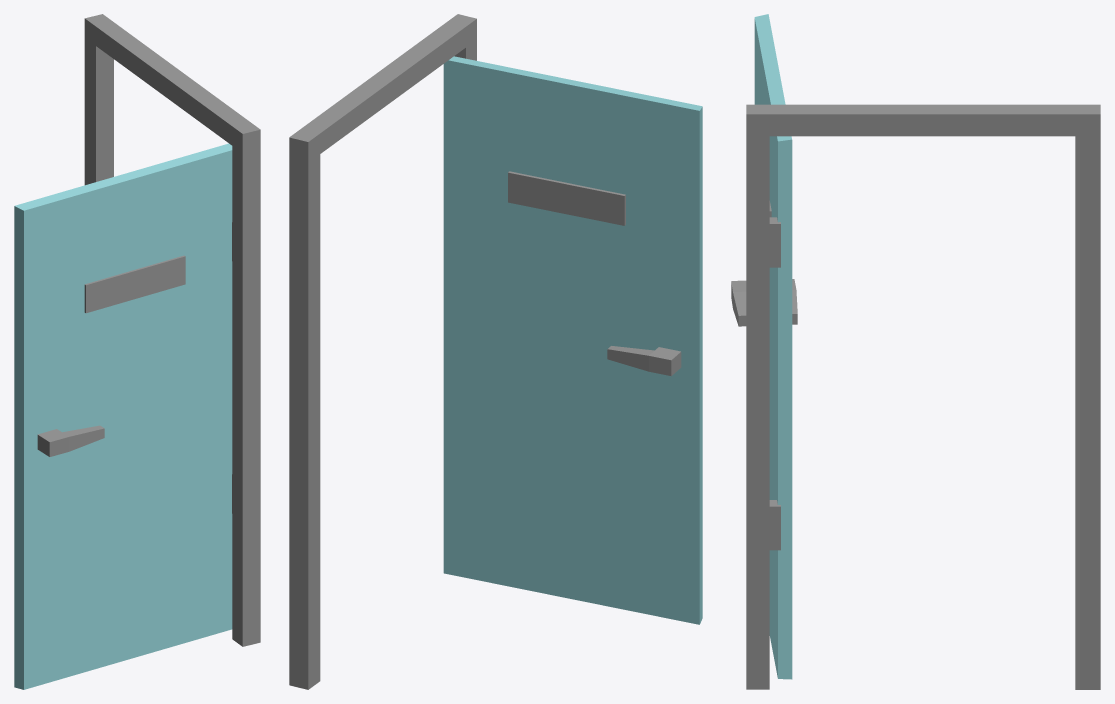
The model's file is opendoor.fbx.
3 renders of one model, left to right at view 1: azimuth 30°, elevation 25°; view 2: azimuth 150°, elevation 25°; view 3: azimuth 270°, elevation 25°, orthographic. The views are drawn at different scales.
Visible parts, largest first — view 1: door, door.frame, sign, handle.001; view 2: door, door.frame, sign, handle; view 3: door.frame, door, handle.001.
Part boxes in pixels (bbox=[...]): door: bbox=[14, 143, 232, 689]; door.frame: bbox=[84, 14, 260, 646]; sign: bbox=[84, 255, 185, 313]; handle.001: bbox=[37, 425, 104, 456]; door: bbox=[443, 56, 702, 624]; door.frame: bbox=[289, 14, 476, 689]; sign: bbox=[508, 171, 625, 225]; handle: bbox=[607, 346, 681, 376]; door.frame: bbox=[746, 104, 1100, 689]; door: bbox=[754, 14, 792, 679]; handle.001: bbox=[731, 280, 746, 326].
Bounding box in the file's own units: 473 × 981 × 570.
